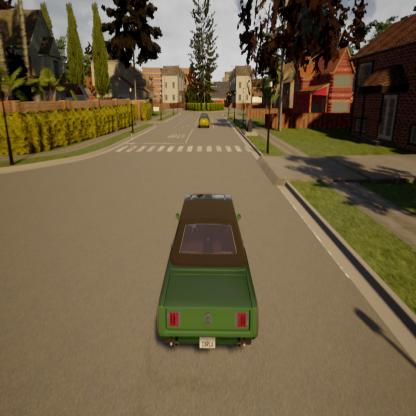Cars: (142, 183, 268, 363), (197, 110, 213, 129)
Pedestrian: (127, 126, 138, 152)
